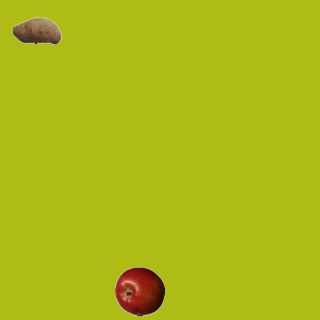Apple Braeburn: (114, 266, 164, 316)
Potato Sweet: (11, 5, 61, 55)
